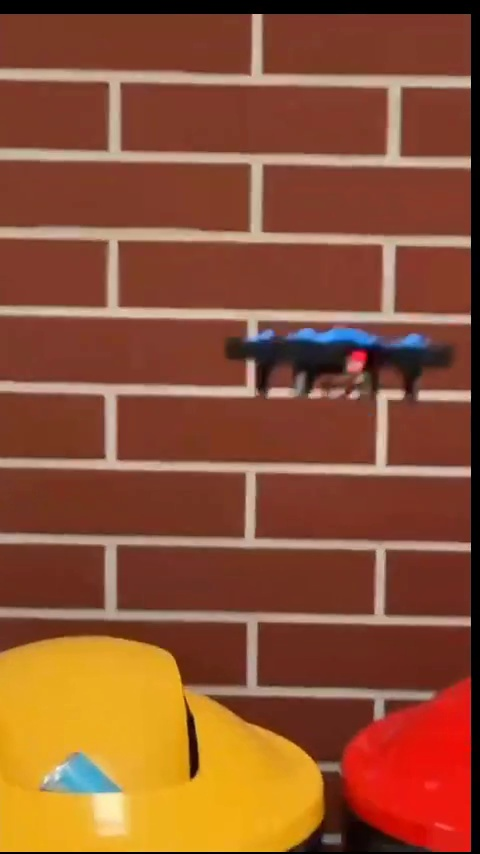drone: (232, 328, 454, 407)
